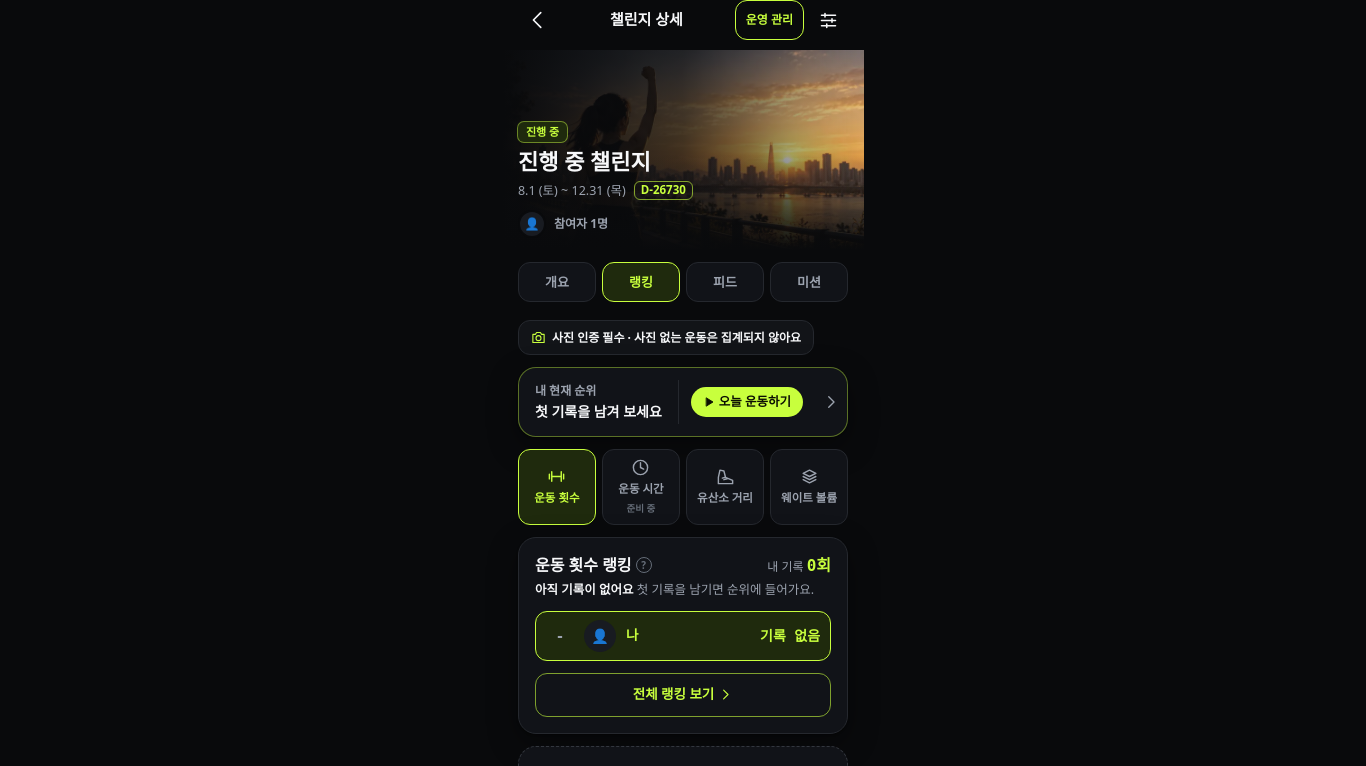
Scenario: ChallengePage 진행 중 — 오늘 운동하기 · 공정성 안내 › 참가자 이름을 눌러 프로필 시트를 연다
Check: the link "오늘 운동하기" is shown, box 691,387 -> 803,417
Click the tab "개요" at (557, 282), box 518,262 -> 596,302
(page scrolled)
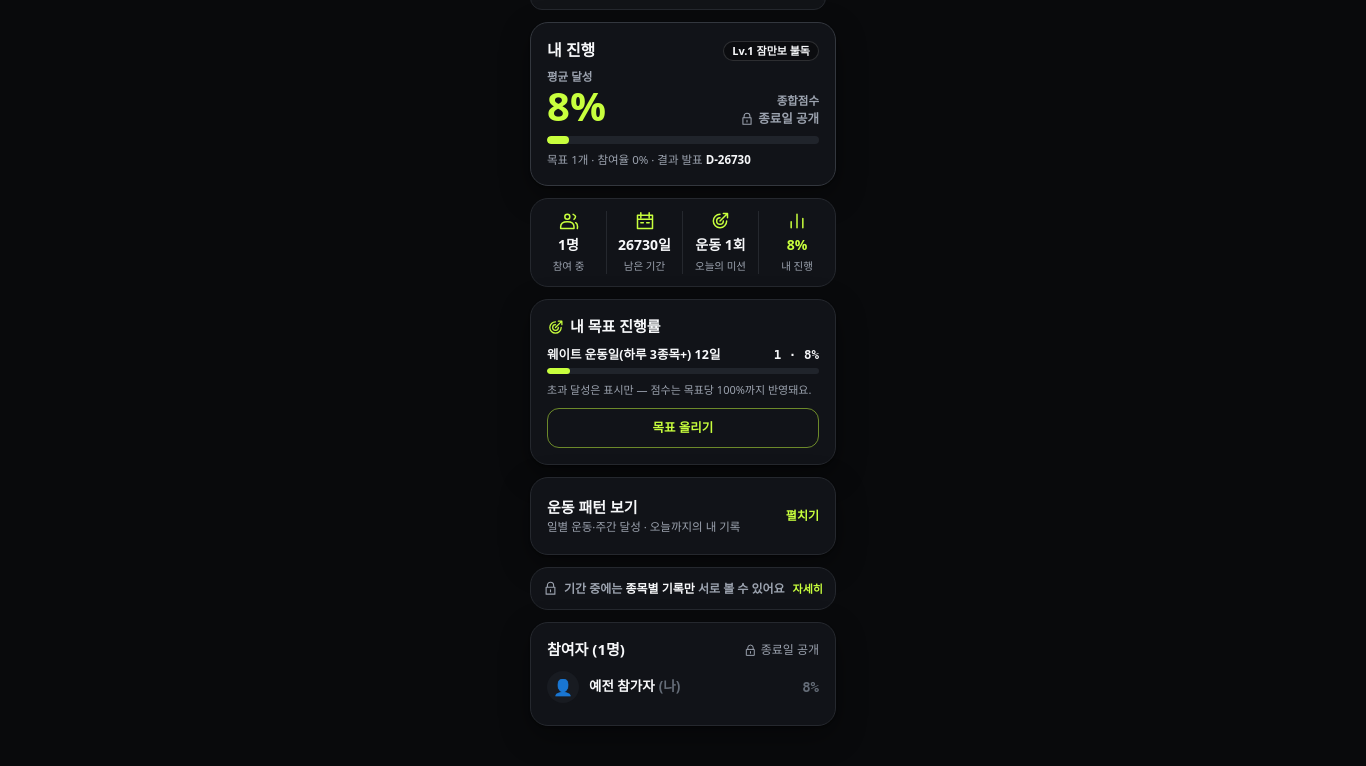
Click the button with aria-label "예전 참가자 프로필 보기" at (670, 687), box 547,671 -> 792,703
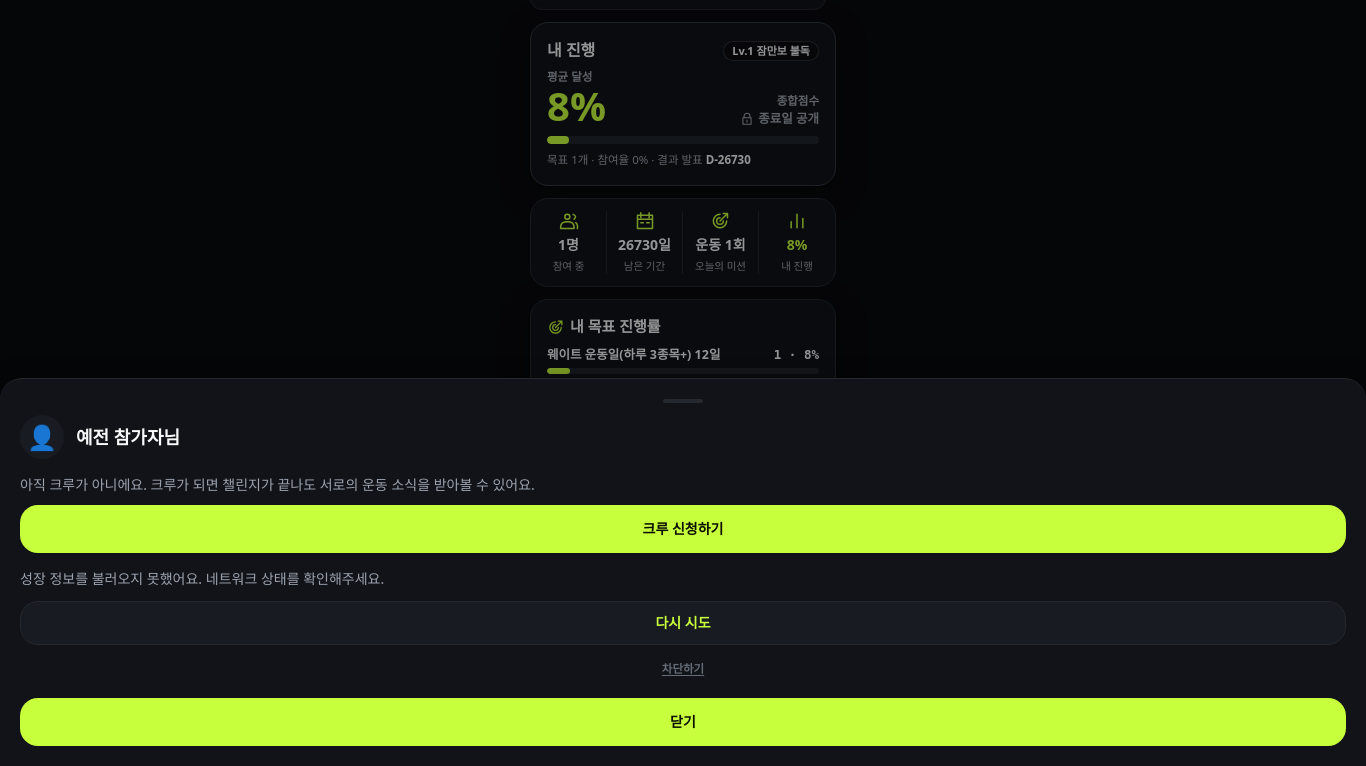
Check: the dialog is shown, box 0,378 -> 1365,765
